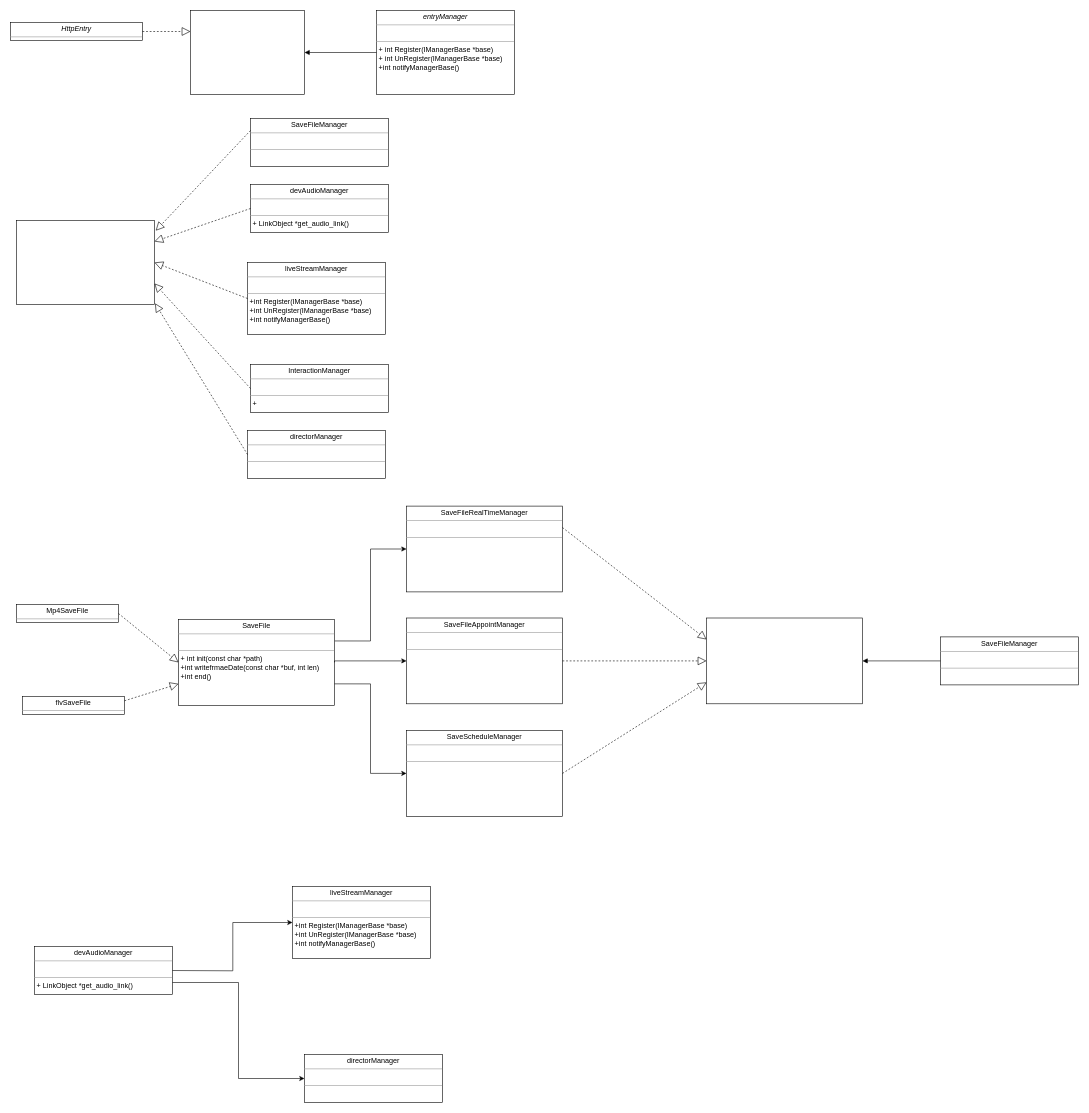
Some shapes in this 1089 by 1113 pixel diagram are drawn without their labels. The shapes that lost their labels are listed below. From the top down, each one's centre as x and y in pixels, then its label:
At pixel 247 52: "Ientry + int Init + int Start +End()".
At pixel 85 262: "IManagerBase + int Update(struct communDate*)".
At pixel 784 660: "ISaveFileManager + int Init + int Start +int proc(struct commun*) +End()".
